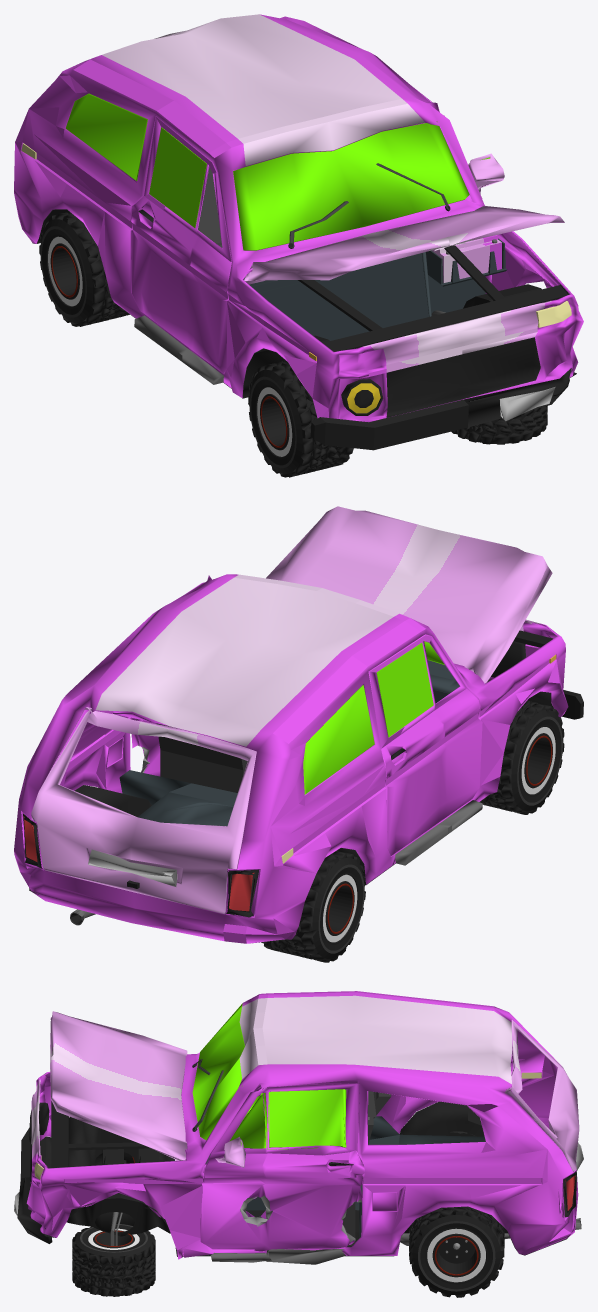
The model's file is ToyObject_095.fbx.
3 renders of one model, top to bottom at view 1: azimuth 30°, elevation 25°; view 2: azimuth 150°, elevation 25°; view 3: azimuth 270°, elevation 25°, orthographic. The views are drawn at different scales.
Parts seen in each view (by area): view 1: object-1.041; view 2: object-1.041; view 3: object-1.041.
Part boxes in pixels (x1=…): object-1.041: x1=14, y1=14, x2=583, y2=477; object-1.041: x1=14, y1=506, x2=583, y2=962; object-1.041: x1=14, y1=991, x2=583, y2=1297.
Size of the model in its own units: 0.1023 by 0.0856 by 0.2007.
Materials: 4 (1 with a texture image).
